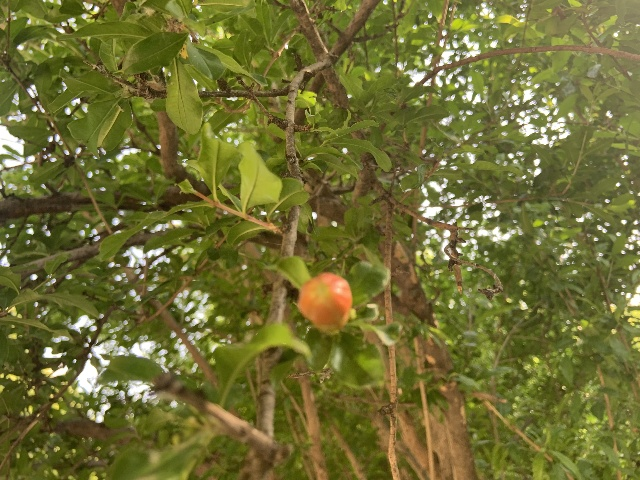bud: (298, 272, 352, 332)
